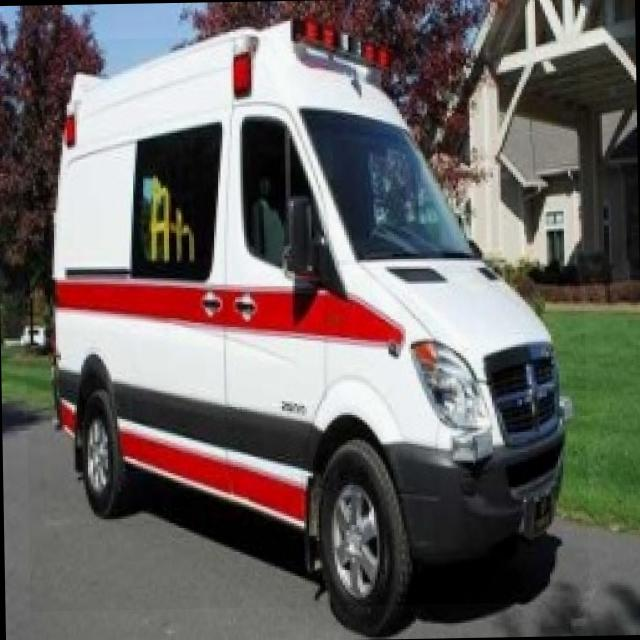ambulance: (20, 31, 589, 612)
